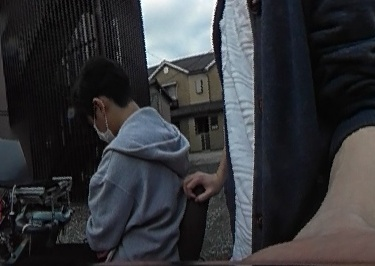person: (37, 53, 188, 266)
